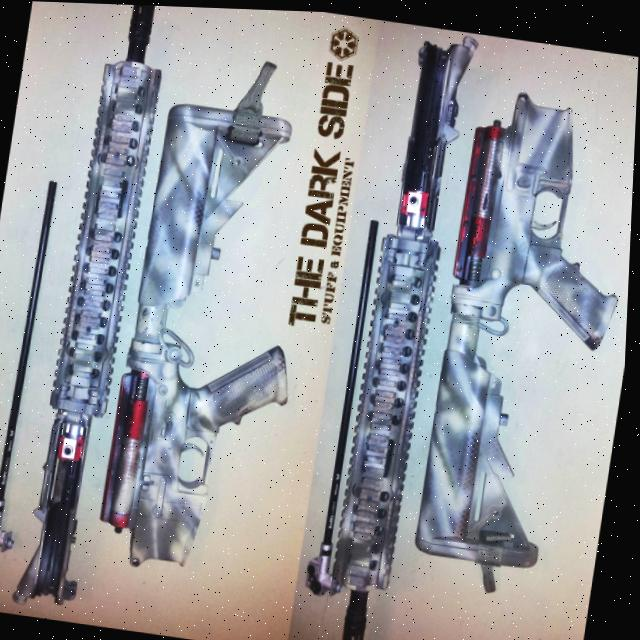firearm: (407, 81, 638, 571), (103, 98, 329, 580), (318, 26, 478, 640), (28, 1, 172, 596)
